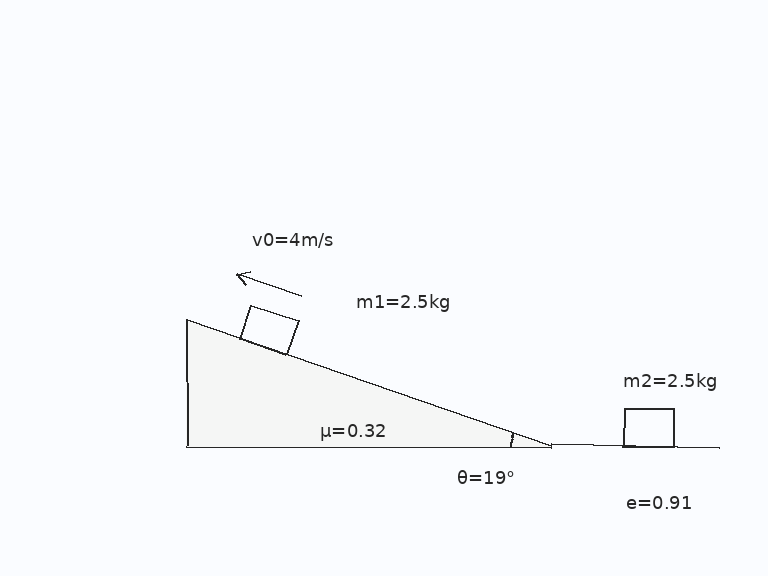block: (237, 303, 299, 357), (620, 407, 676, 448)
ramp: (184, 318, 553, 448)
